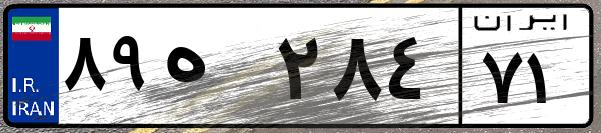1: (525, 38, 570, 115)
2: (270, 28, 330, 110)
4: (385, 28, 445, 110)
7: (475, 38, 525, 113)
8: (330, 28, 385, 110), (57, 26, 110, 100)
9: (110, 28, 158, 98)
ه: (158, 20, 270, 120)
